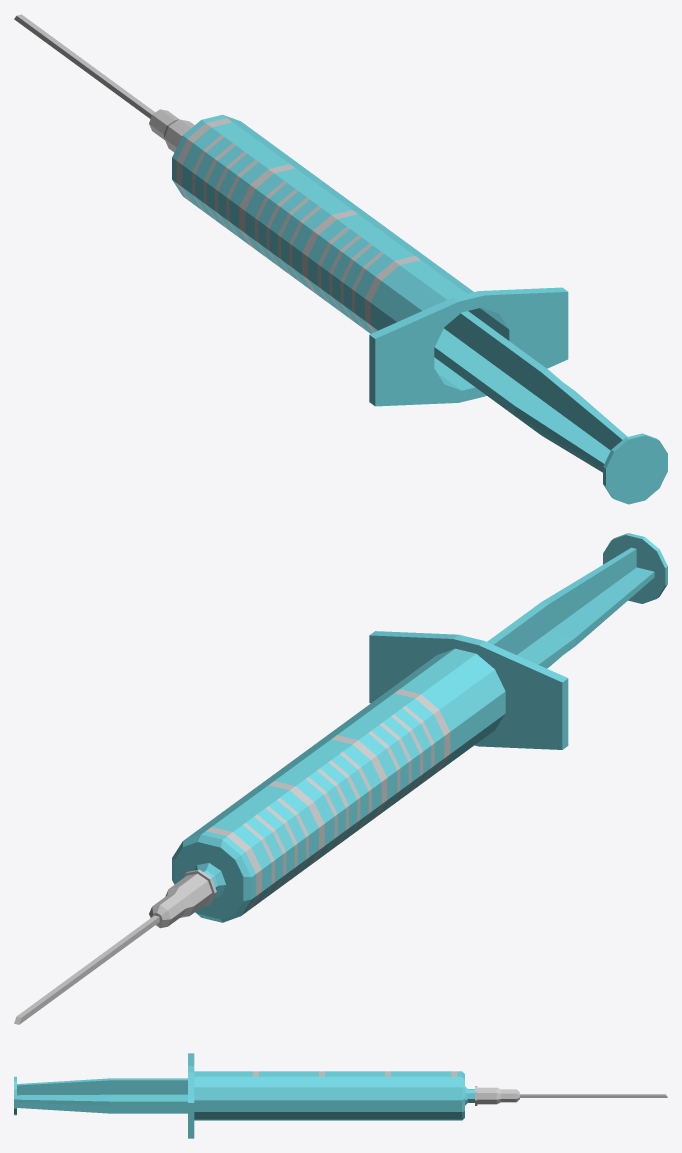
File: SM_Syringe.gltf
3 renders of one model, top to bottom at view 1: azimuth 30°, elevation 25°; view 2: azimuth 150°, elevation 25°; view 3: azimuth 270°, elevation 25°, orthographic. The views are drawn at different scales.
Parts seen in each view (by area): view 1: SM_Syringe, SM_Syringe_Lever; view 2: SM_Syringe, SM_Syringe_Lever; view 3: SM_Syringe, SM_Syringe_Lever.
Part boxes in pixels (x1,y1,x2,y2): SM_Syringe: [14, 14, 568, 406]; SM_Syringe_Lever: [434, 311, 667, 504]; SM_Syringe: [14, 631, 568, 1024]; SM_Syringe_Lever: [487, 533, 667, 668]; SM_Syringe: [188, 1053, 667, 1138]; SM_Syringe_Lever: [14, 1076, 187, 1115].
Size of the model in its own units: 0.0596 by 0.0298 by 0.3317.
